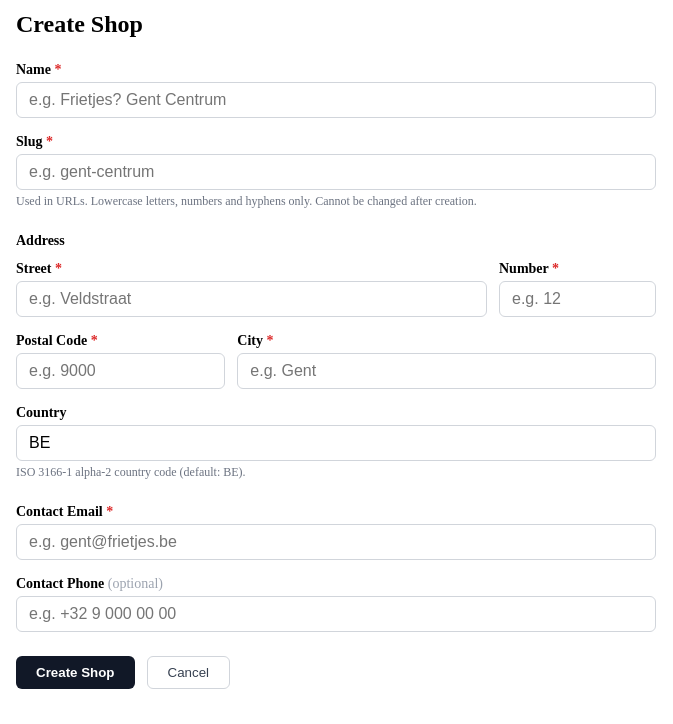
Test: ShopCreate › shows validation error when required fields are empty
The image size is (673, 724).
Submit without filling anything
Step 1. Click the button "Create Shop" → (75, 673), box [16, 656, 134, 689]
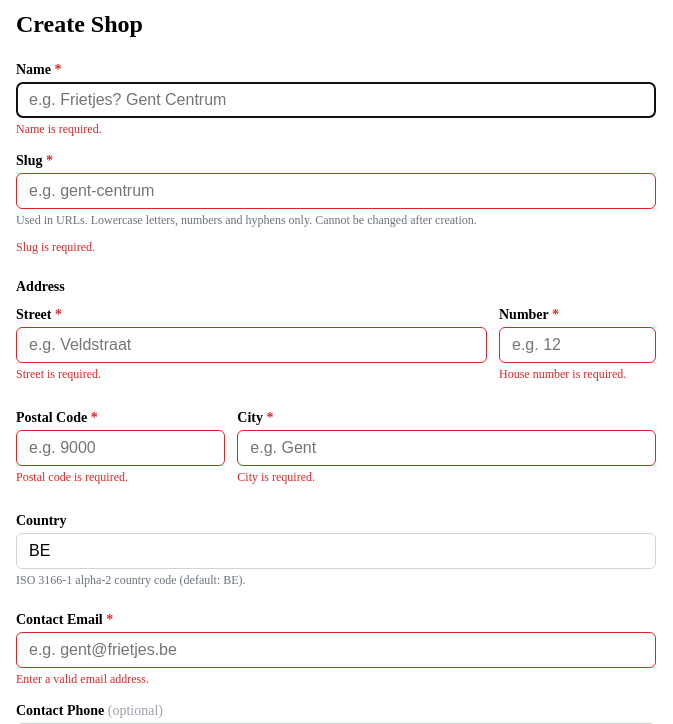
Expected: the text "Name is required." is shown, [16, 122, 102, 136]
